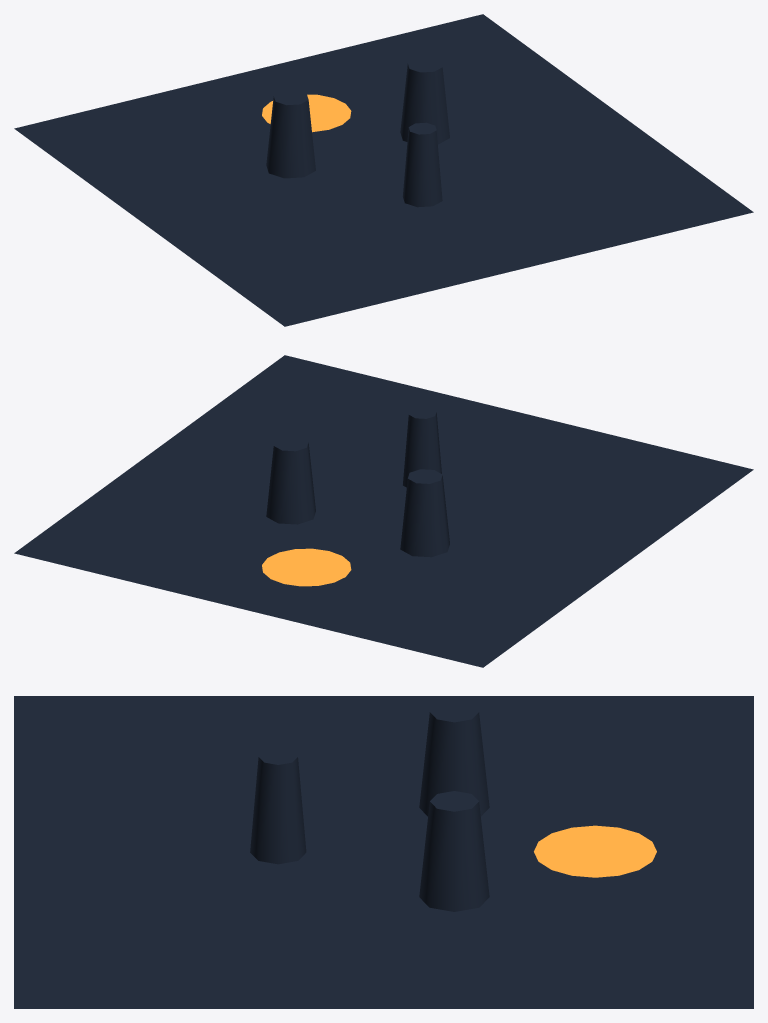
Rendered from atl_06.glb.
3 views of the same model, one above another, from view 1: azimuth 30°, elevation 25°; view 2: azimuth 150°, elevation 25°; view 3: azimuth 270°, elevation 25° (orthographic). The views are drawn at different scales.
Parts seen in each view (by area): view 1: scenario_base_floor, ATL_06; view 2: scenario_base_floor, ATL_06; view 3: scenario_base_floor, ATL_06.
Part boxes in pixels (bbox=[...]): scenario_base_floor: bbox=[14, 14, 753, 326]; ATL_06: bbox=[262, 57, 449, 207]; scenario_base_floor: bbox=[14, 355, 753, 667]; ATL_06: bbox=[262, 407, 449, 586]; scenario_base_floor: bbox=[14, 696, 753, 1008]; ATL_06: bbox=[250, 701, 656, 911].
Size of the model in its own units: 42 by 6 by 42.
